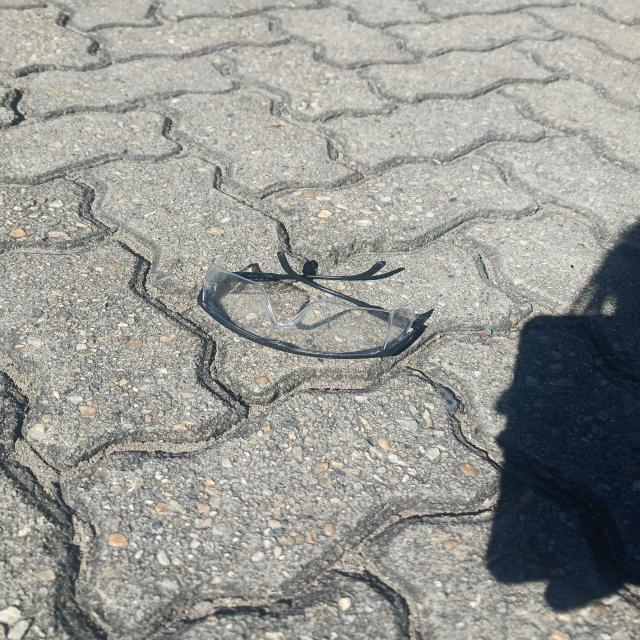oculos-epi: (198, 252, 414, 359)
